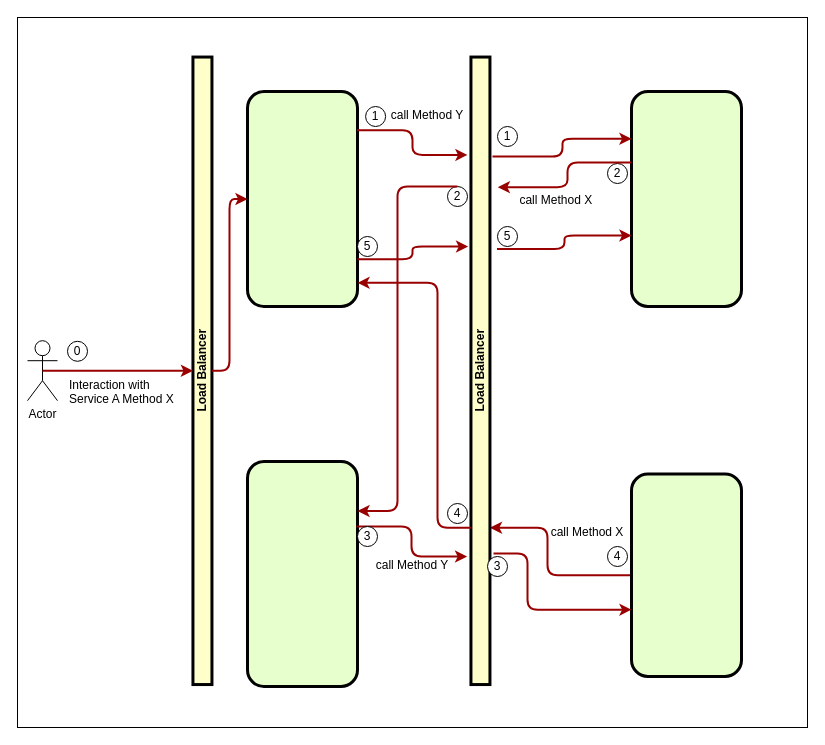
Image size: 825x745. Some labels were removed from this diagram. The shapes that lost their labels are listed below. From the top down, each one's box as (x1, y1, x2, y2) in pixels, then its label:
(246, 90, 358, 308): Service A Method X Instance 1
(630, 90, 742, 308): Service B Method Y Instance 1
(246, 460, 358, 688): Service A Method X Instance 2
(630, 472, 742, 678): Service B Method Y Instance 2
